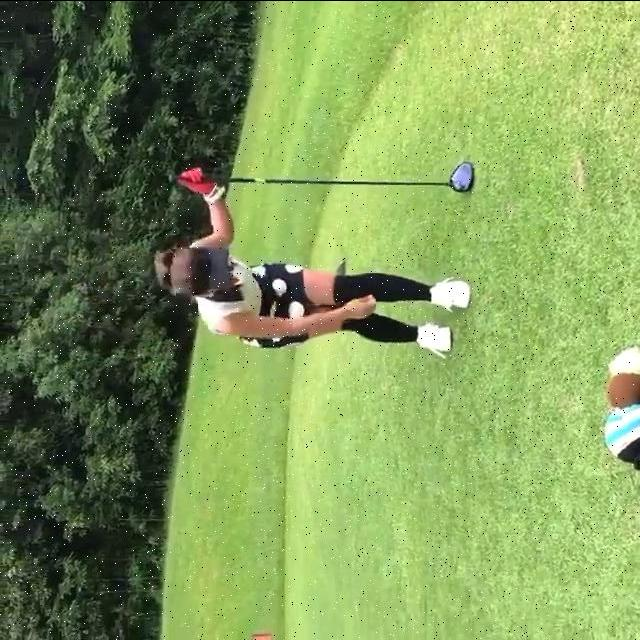golf club-handle: (167, 159, 473, 192)
golf club-head: (449, 159, 473, 192)
